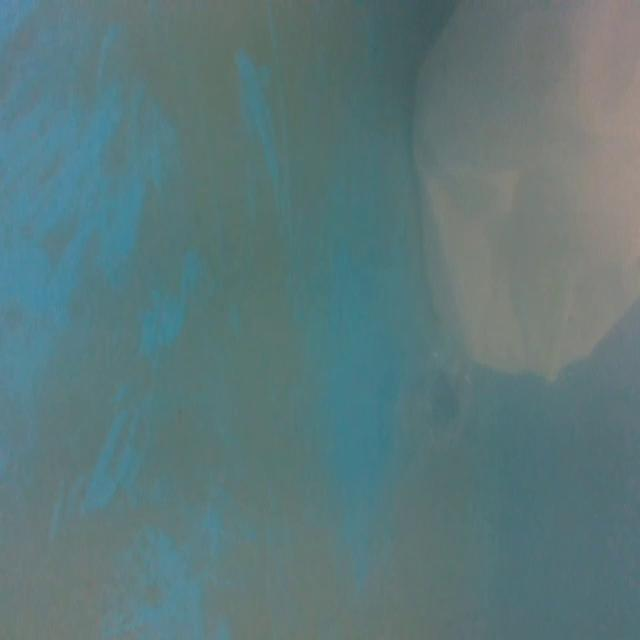plastic bags: (396, 0, 639, 392)
